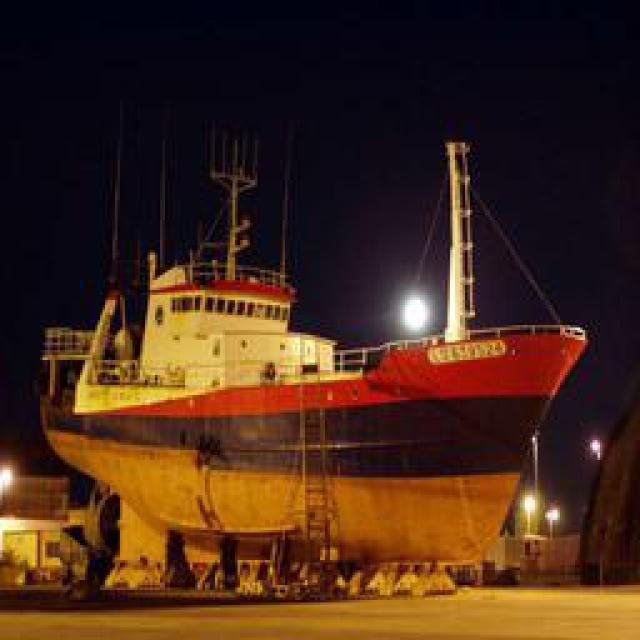Ship: (34, 122, 609, 580)
